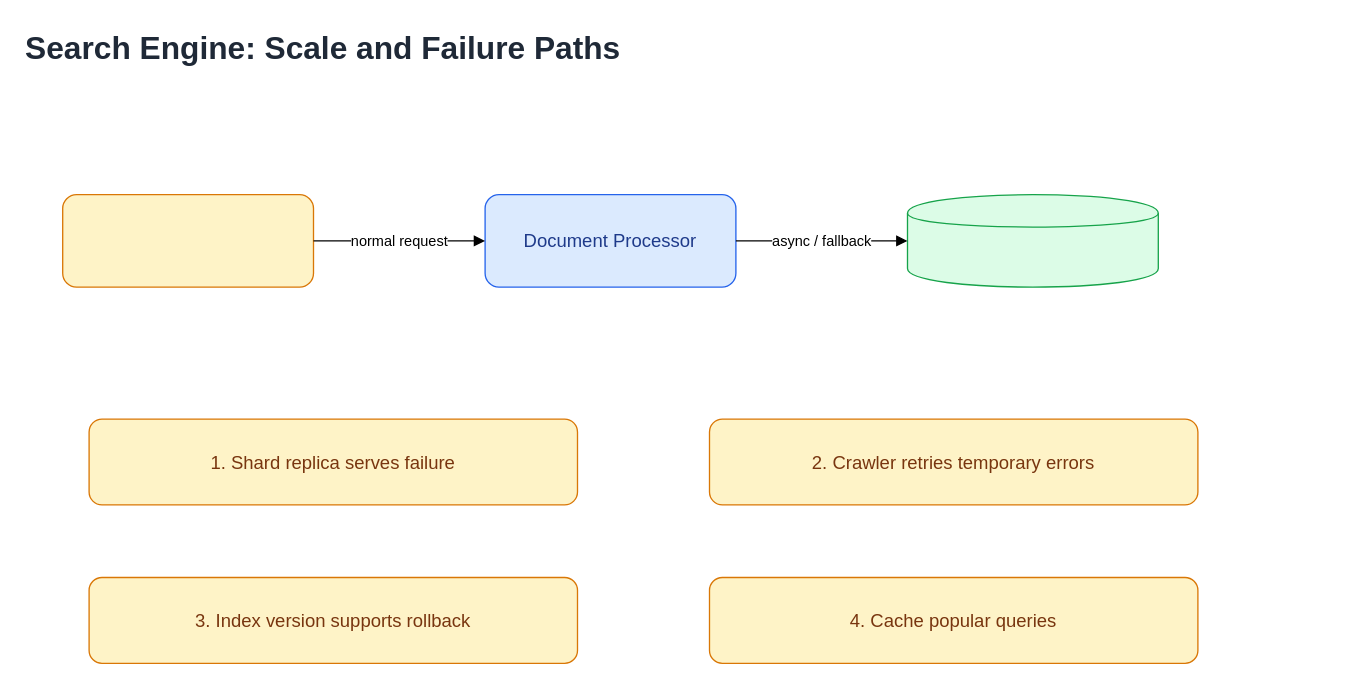
Image size: 1365x686. Some labels were removed from this diagram. Each missing label, with the centre of its shape:
"Ranking Service" belongs at (1032,240).
"Traffic / Request Spike" belongs at (187,240).
